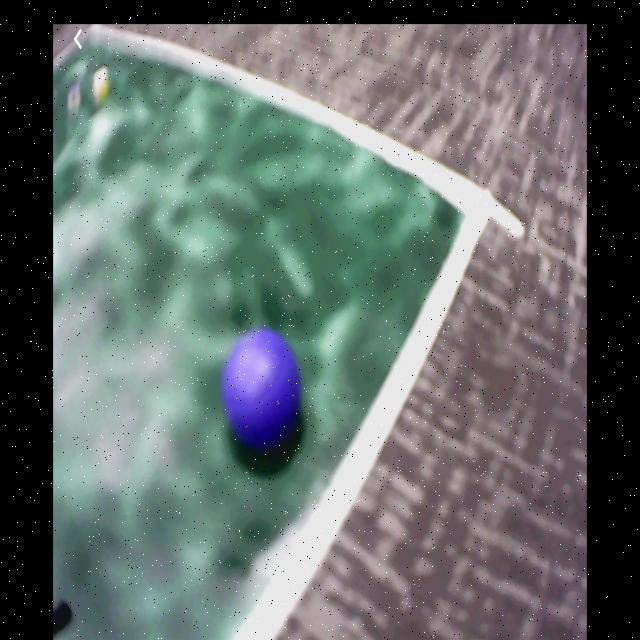ball: (223, 331, 301, 449)
